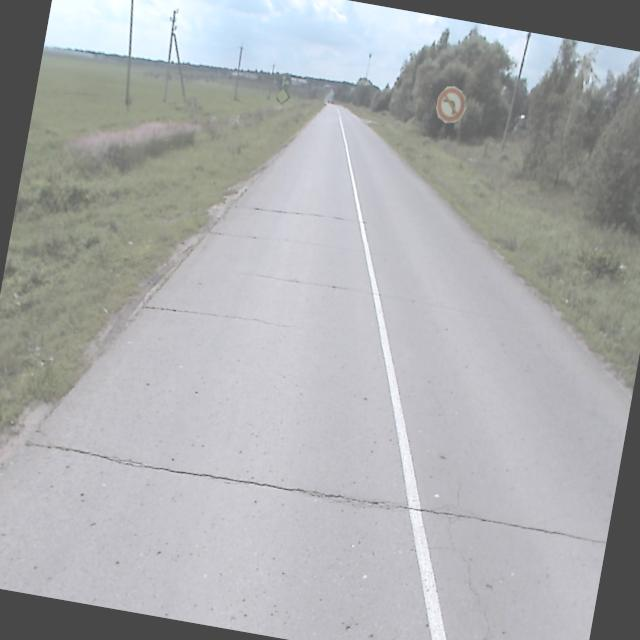road: (0, 104, 631, 640)
